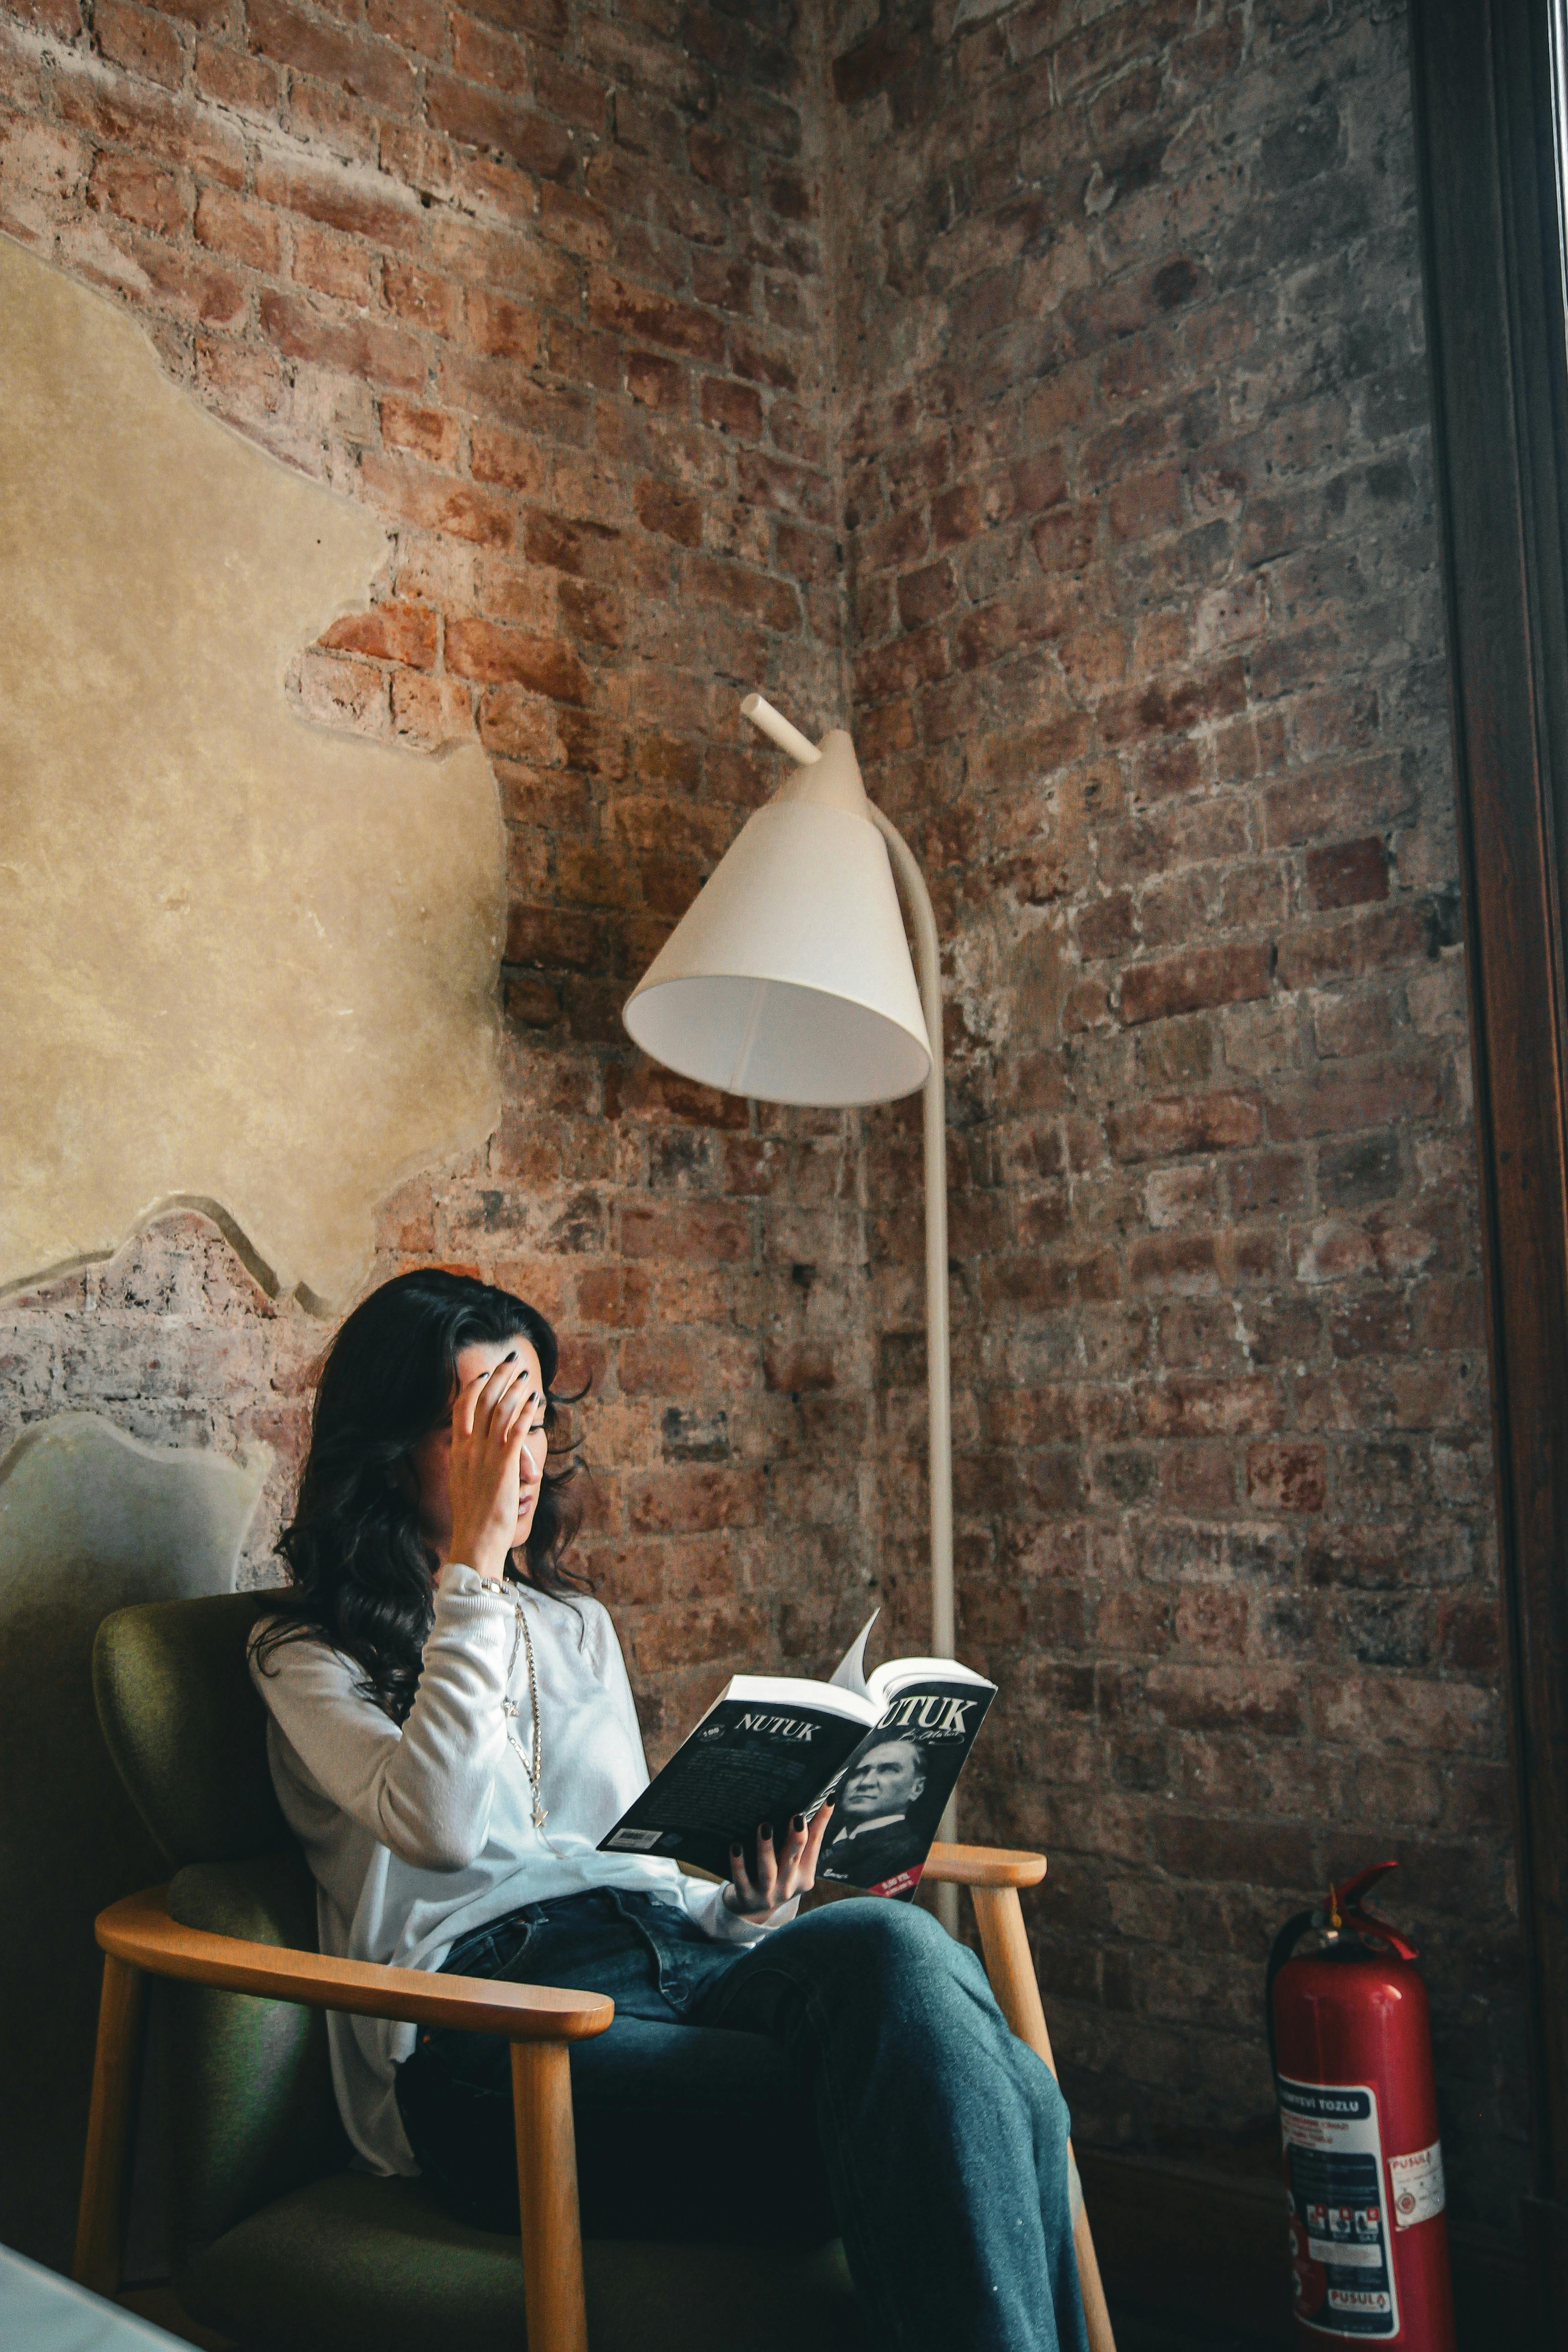extintor: (1251, 1846, 1470, 2347)
